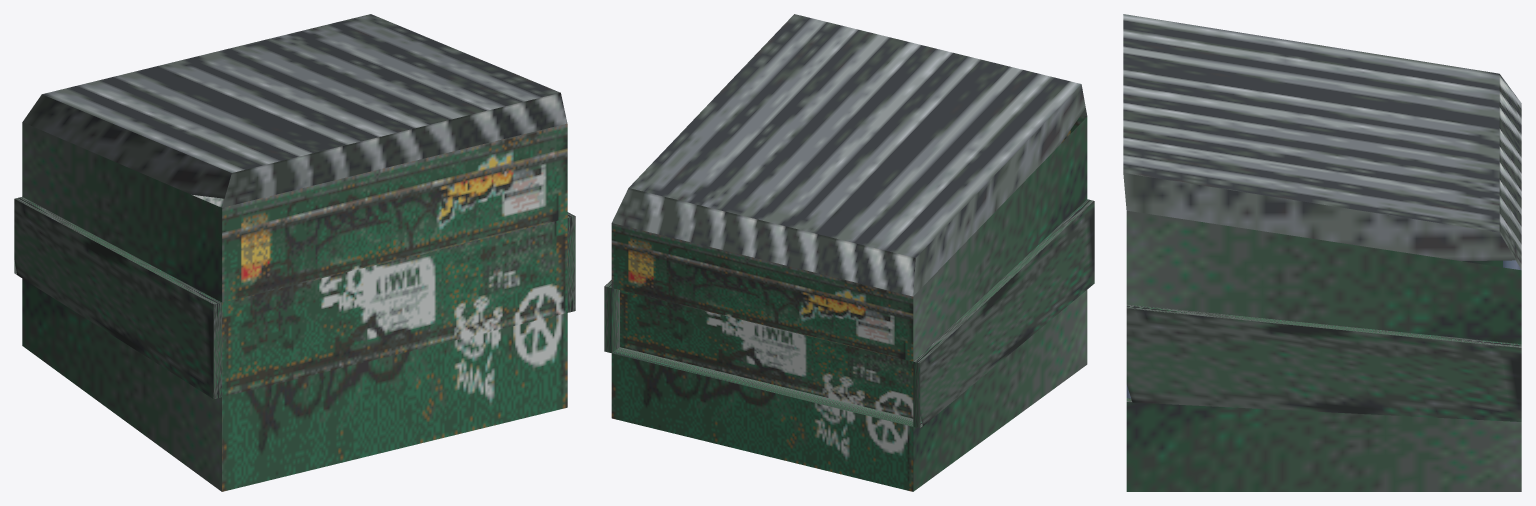
File: citytrashcontainer.fbx
The picture shows the model from 3 angles, left to right: view 1: azimuth 30°, elevation 25°; view 2: azimuth 150°, elevation 25°; view 3: azimuth 270°, elevation 25°; orthographic projection. The views are drawn at different scales.
Visible parts, largest first — view 1: mesh; view 2: mesh; view 3: mesh.
Boxes of the visible parts, x1,y1,x2,y2 form: mesh: (14, 14, 575, 491); mesh: (604, 14, 1094, 491); mesh: (1123, 14, 1521, 491).
Bounding box in the file's own units: 34.38 × 28.86 × 33.08.
1 material, 1 textured.
